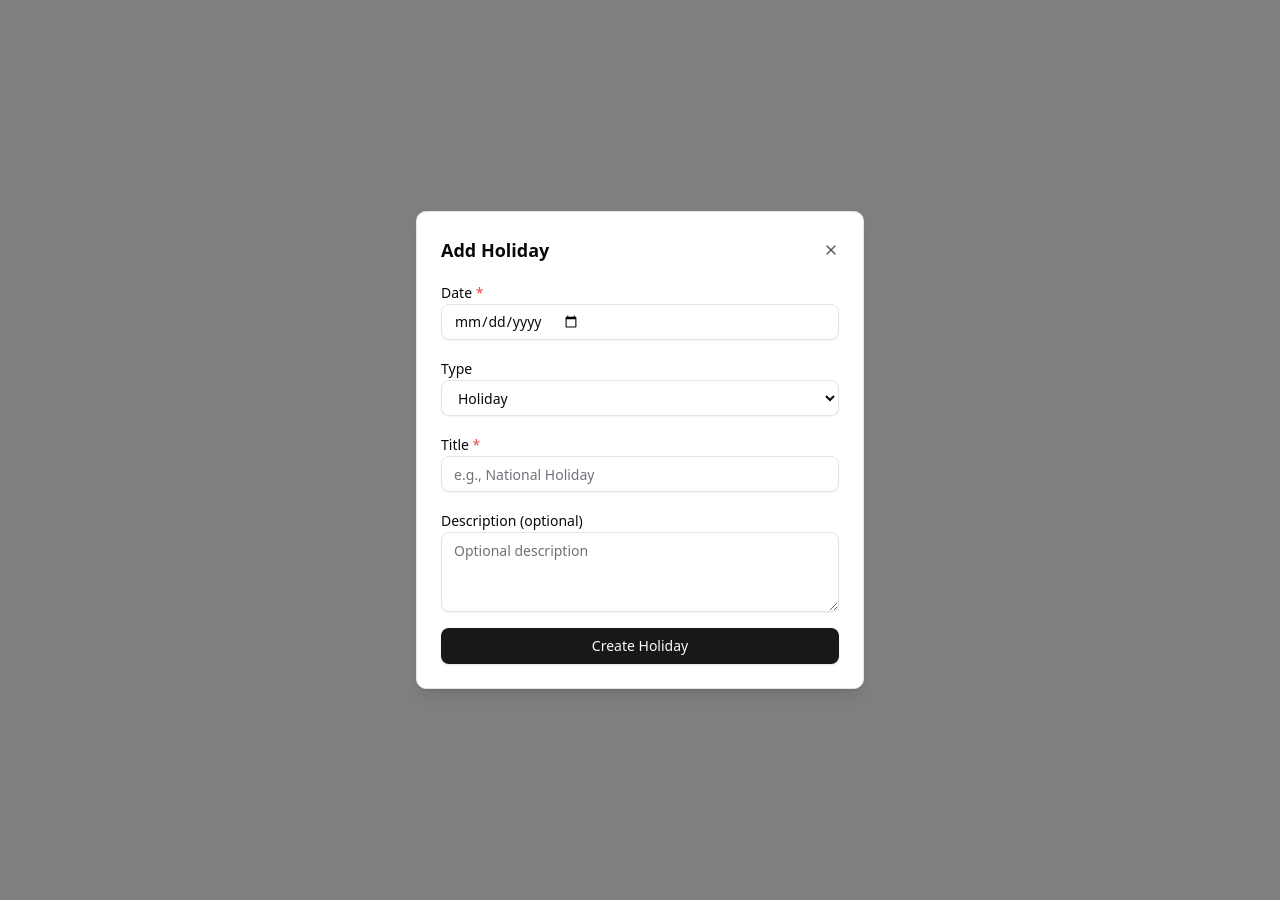
Scenario: AddHolidayModal — validation errors are visible › shows a summary error banner when validation fails
Click the button with test id "submit-holiday": click(640, 646) top-left (441, 628), bottom-right (839, 664)
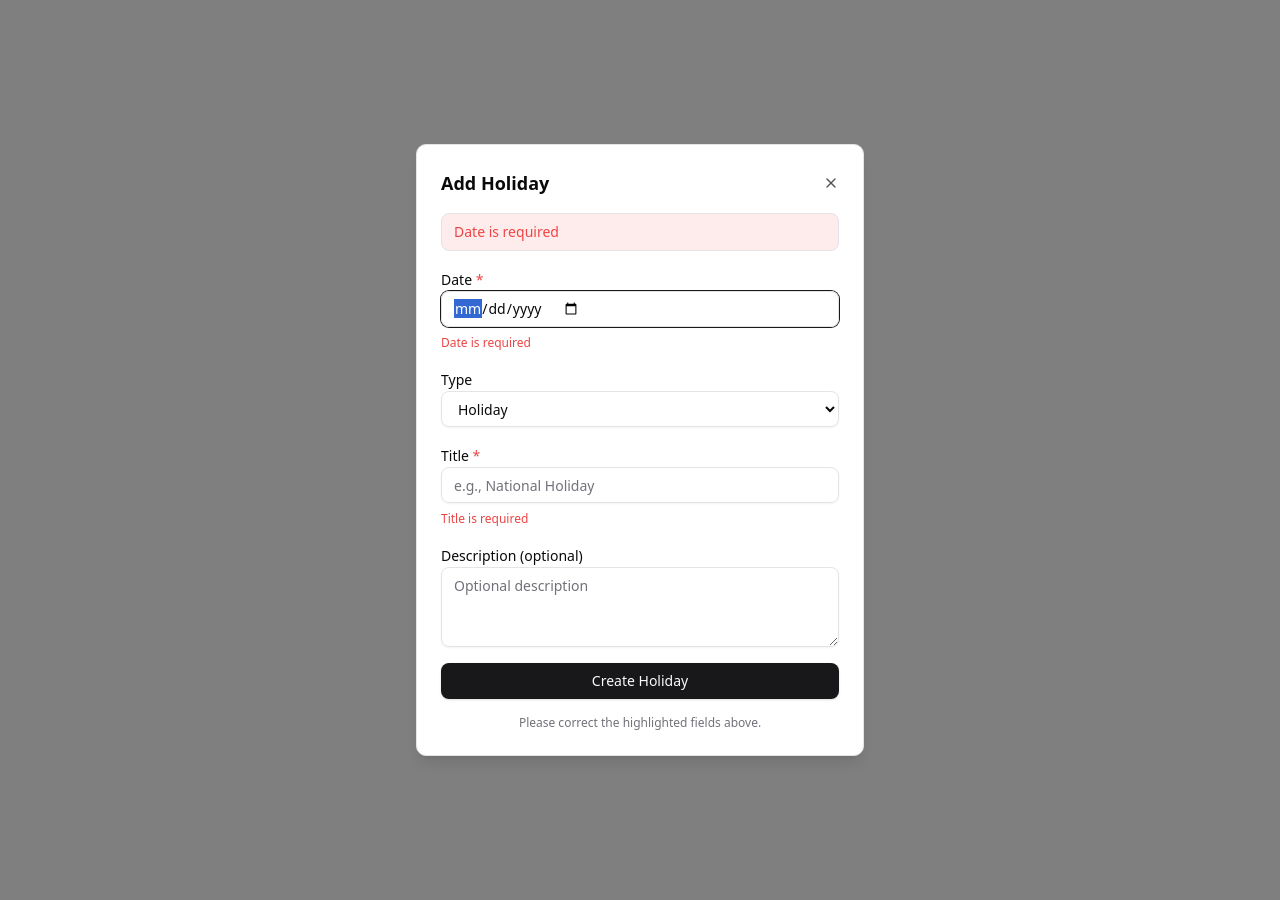
Expected: the 1st text "Date is required" is shown, top-left (441, 213), bottom-right (839, 251)
